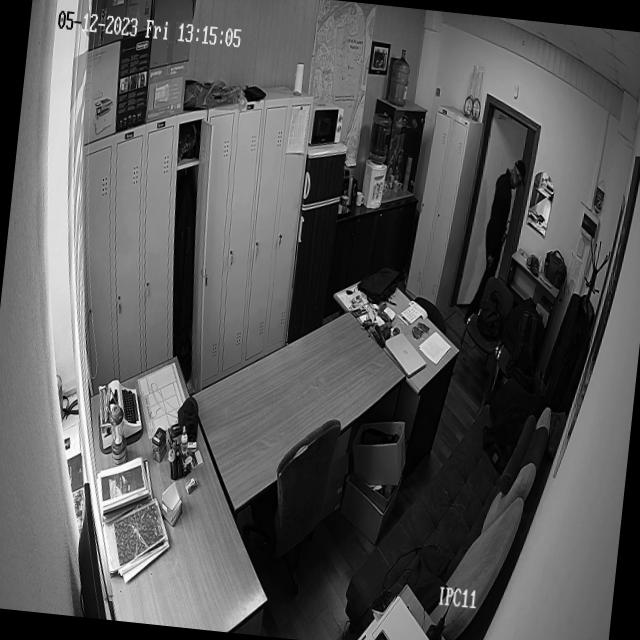gun: (474, 231, 508, 298)
person with a gun: (463, 158, 524, 320)
